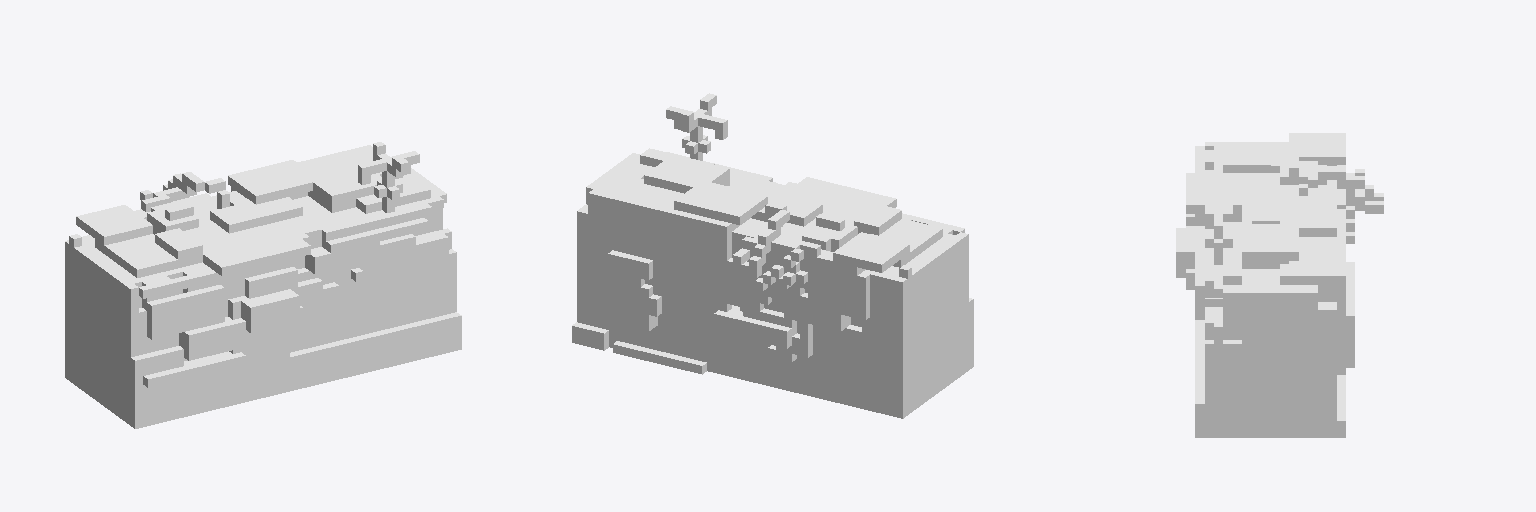
Rendered from snow2.obj.
3 views of the same model, side by side, from view 1: azimuth 30°, elevation 25°; view 2: azimuth 150°, elevation 25°; view 3: azimuth 270°, elevation 25° (orthographic).
Parts seen in each view (by area): view 1: object 1; view 2: object 1; view 3: object 1.
Part boxes in pixels (left/top/right/bottom): object 1: left=65, top=142, right=461, bottom=428; object 1: left=572, top=93, right=973, bottom=418; object 1: left=1176, top=133, right=1383, bottom=437.
Bounding box in the file's own units: 4 × 2.4 × 2.2.